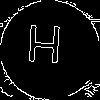H: (25, 25, 63, 73)
